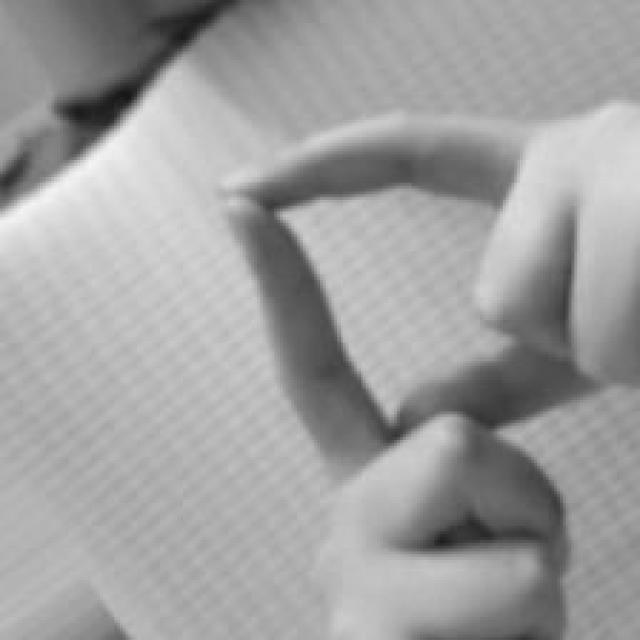D: (208, 110, 640, 640)
